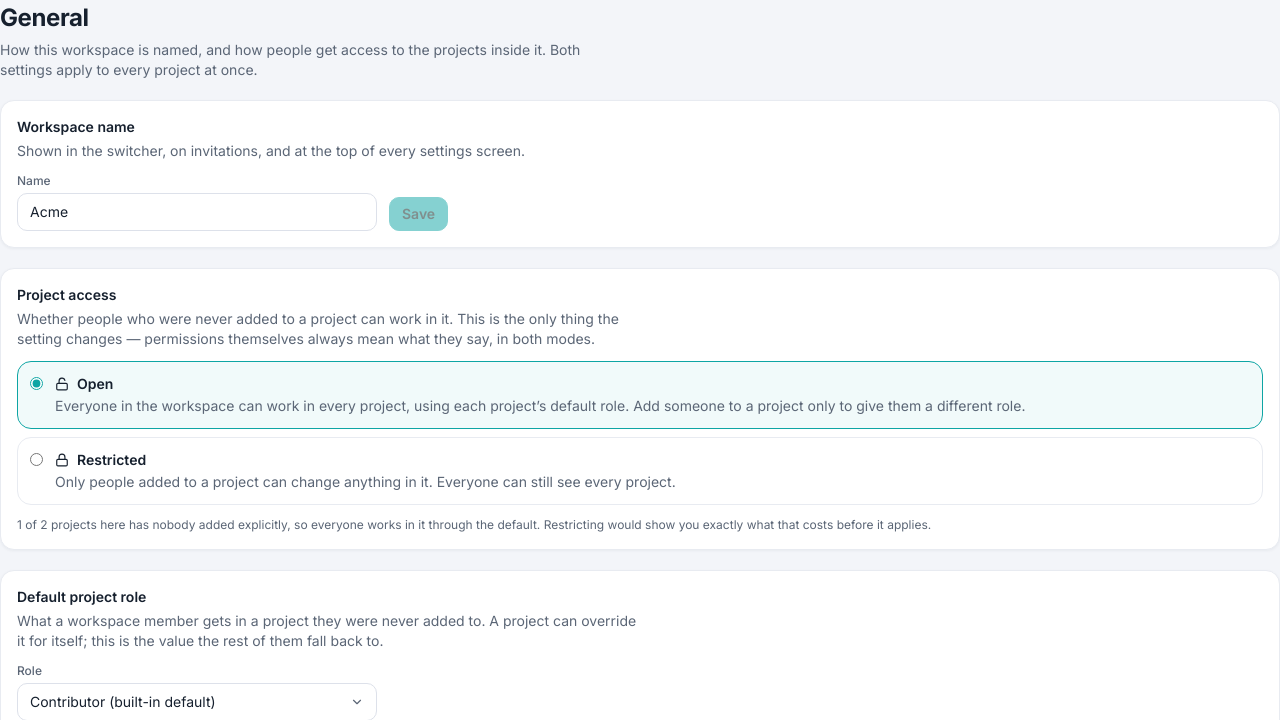
Scenario: WorkspaceGeneralPage — the impact preview › renders a 409 STRANDED_BY_INHERITANCE that arrives AFTER a clean preview
This screenshot has width=1280, height=720.
Click the radio button labelled "Restricted": (36, 460) [30, 453, 43, 466]
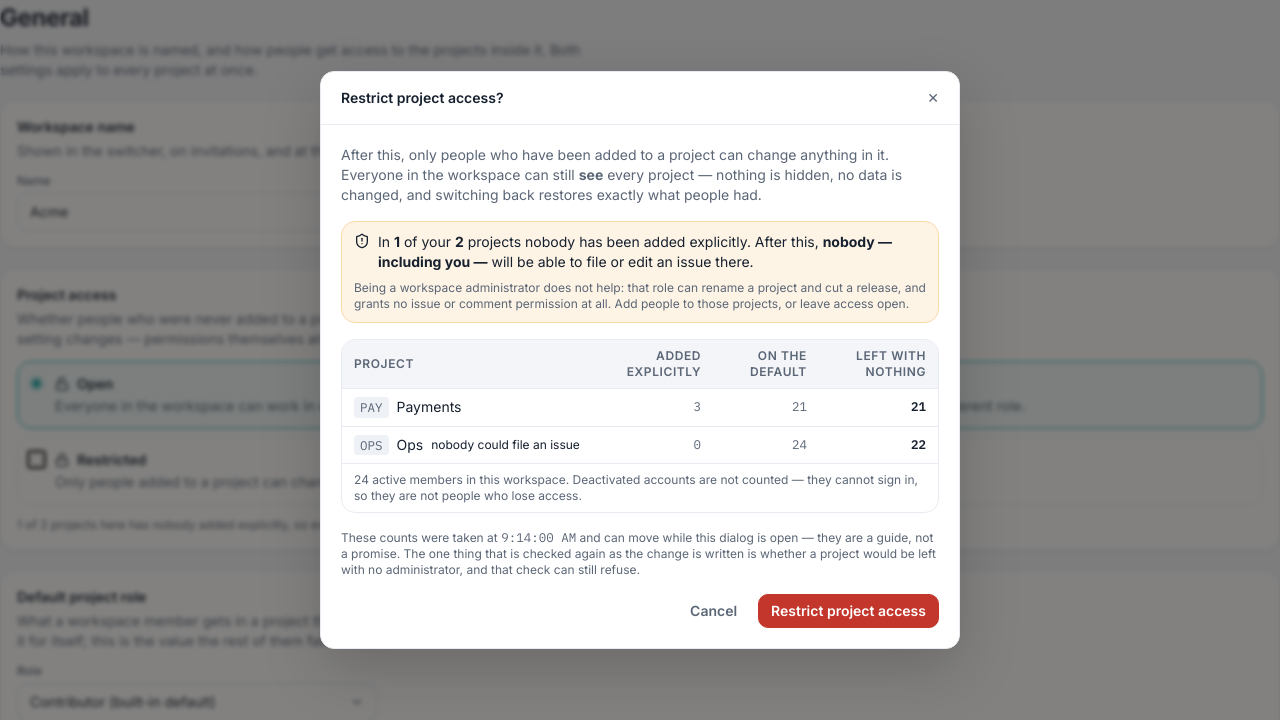
Check: the button "Restrict project access" is shown
Click the button "Restrict project access": (849, 611) [758, 594, 939, 628]
(page scrolled)
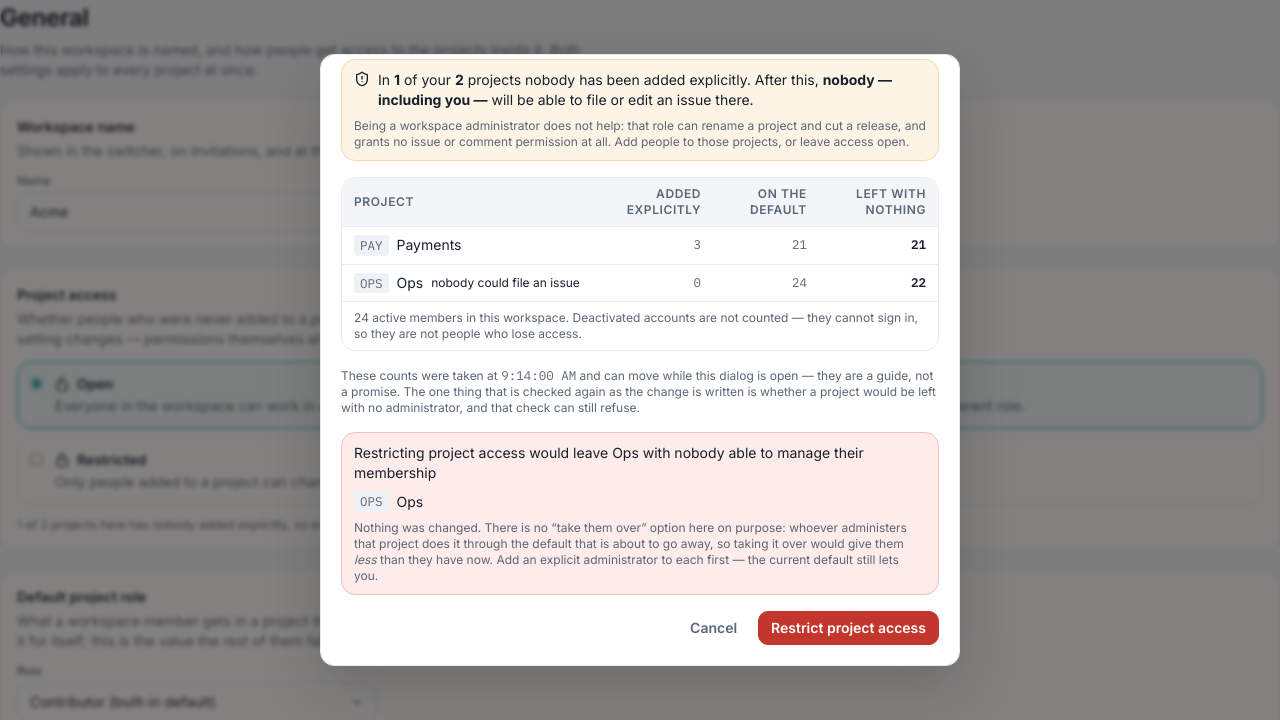
Check: the text "nobody able to manage their membership" is shown, box [354, 444, 864, 481]
Check: the text "no “take them over” option here on purpose" is shown, box [354, 520, 907, 535]
